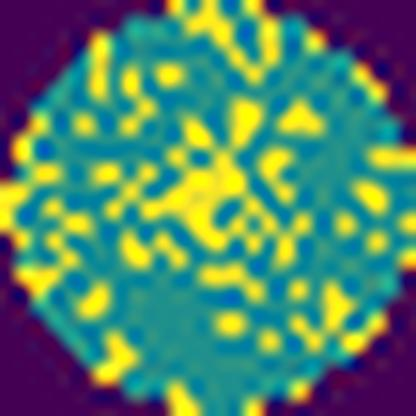Center: (97, 86, 301, 270)
